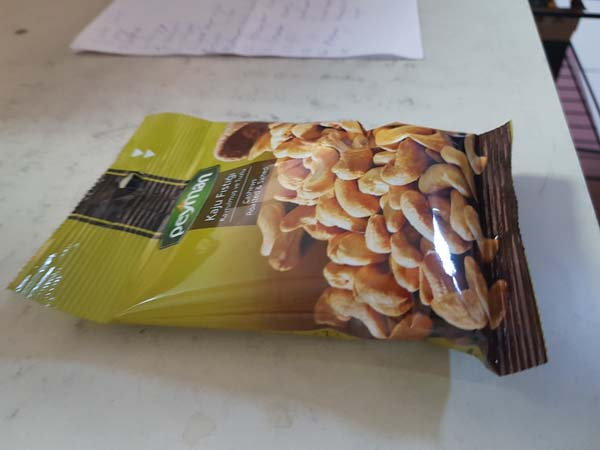kajupeyman: (9, 104, 555, 378)
